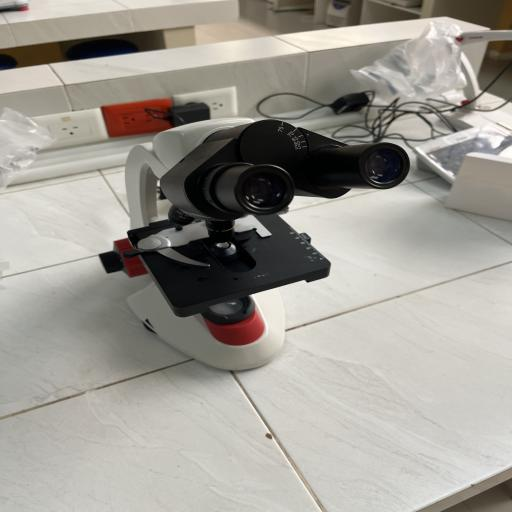Microscopio_Binocular: (93, 105, 432, 383)
